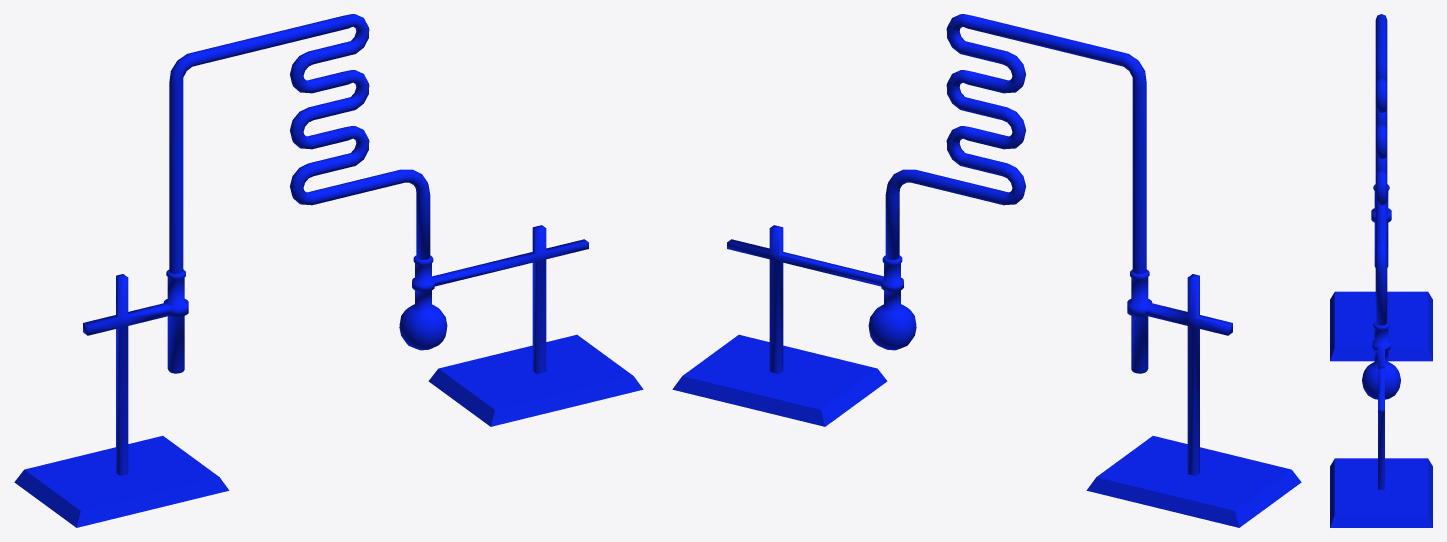
The model's file is Liquid EXP.fbx.
3 views of the same model, side by side, from view 1: azimuth 30°, elevation 25°; view 2: azimuth 150°, elevation 25°; view 3: azimuth 270°, elevation 25° (orthographic). The views are drawn at different scales.
Visible parts, largest first — view 1: Liquid EXP; view 2: Liquid EXP; view 3: Liquid EXP.
Part boxes in pixels (x1,y1,x2,y2): Liquid EXP: [14, 14, 643, 527]; Liquid EXP: [672, 14, 1301, 527]; Liquid EXP: [1330, 14, 1432, 527].
Bounding box in the file's own units: 1.68 × 1.18 × 0.3199.
